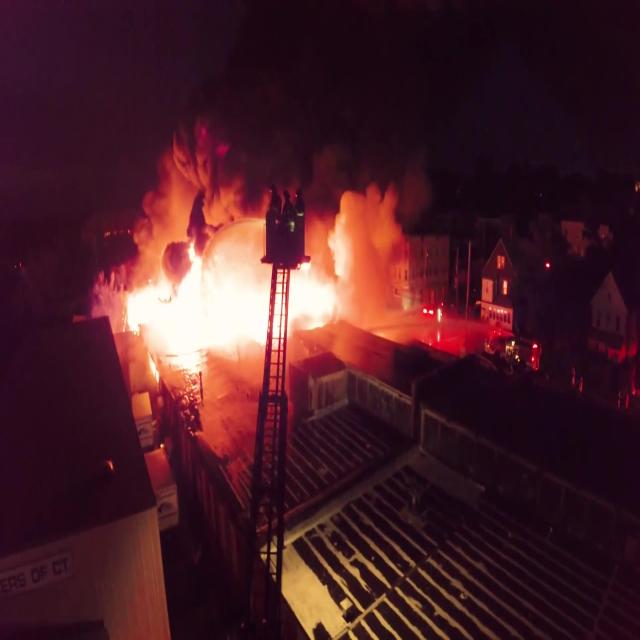Fire: (130, 244, 340, 390)
Smoke: (114, 55, 454, 350)
